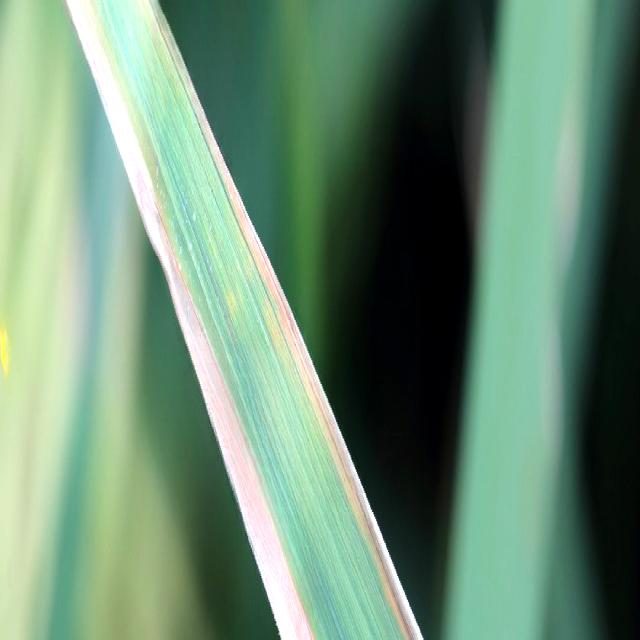BLB: (139, 0, 422, 640), (68, 0, 315, 640)
